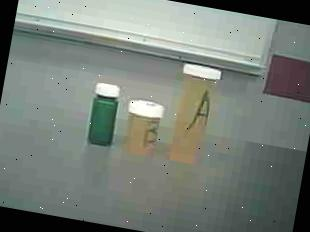Bottle A: (159, 58, 234, 175)
Bottle B: (119, 95, 168, 158)
Bottle C: (80, 76, 126, 151)
